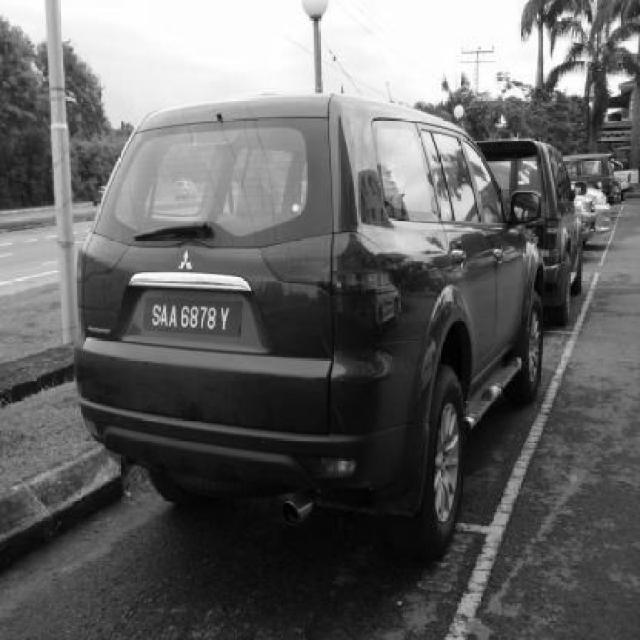car: (75, 96, 548, 544)
license-plate: (140, 295, 242, 340)
